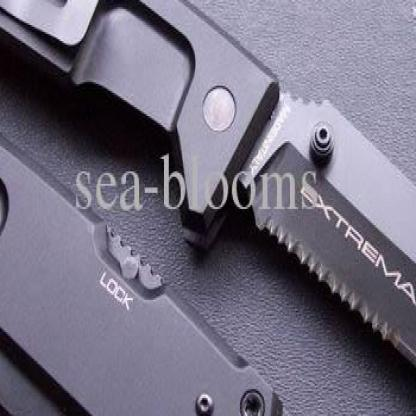knife: (236, 72, 415, 414)
